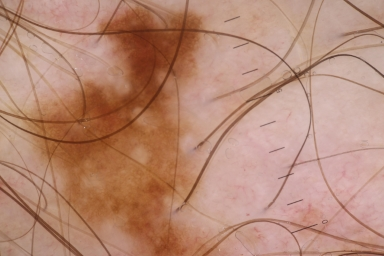nevus: (26, 11, 205, 255)
